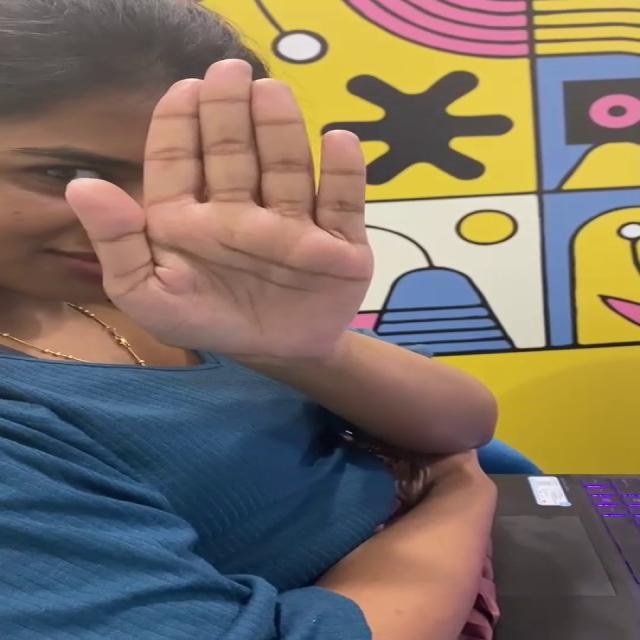no-gloves: (59, 45, 395, 366)
